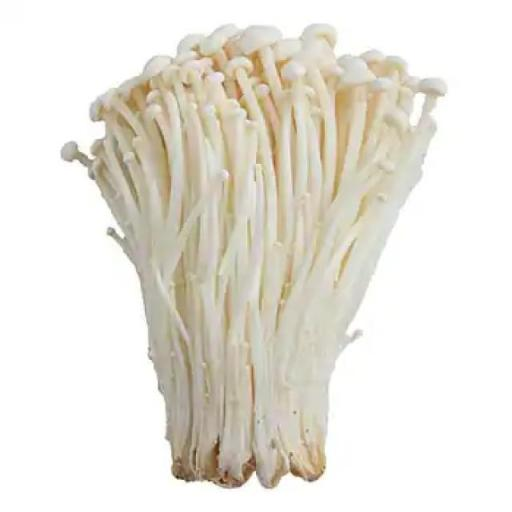Enoki Mushroom: (60, 22, 447, 489)
